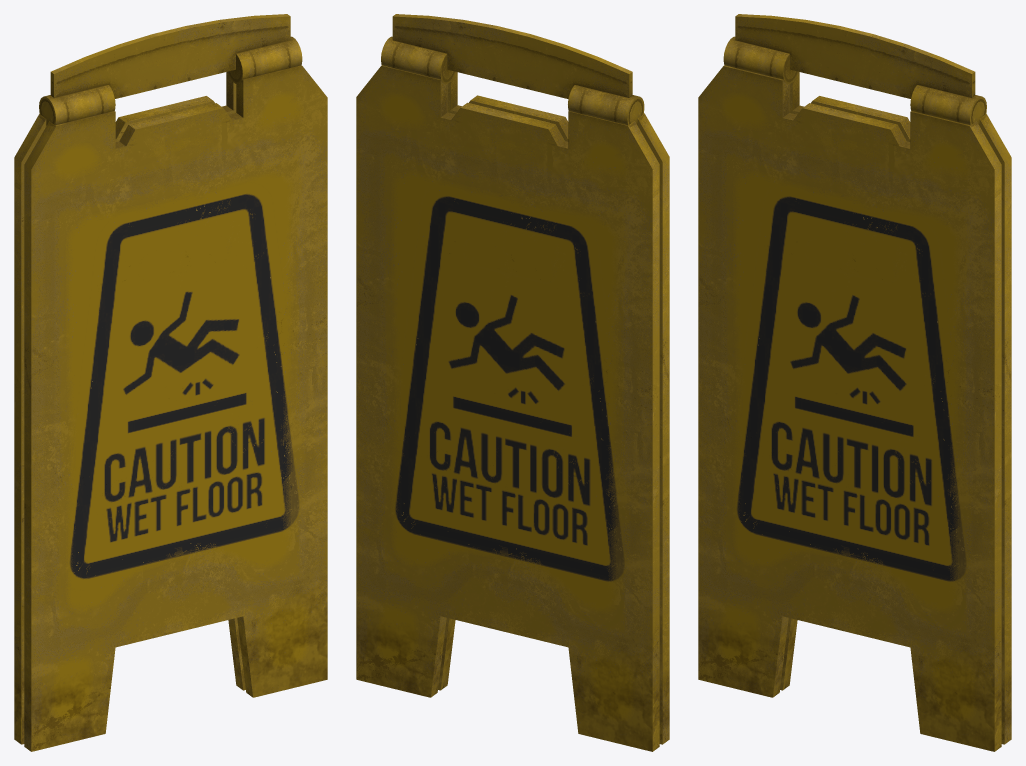
Rendered from SM_WetFloorSign_Closed.fbx.
3 views of the same model, side by side, from view 1: azimuth 30°, elevation 25°; view 2: azimuth 150°, elevation 25°; view 3: azimuth 330°, elevation 25° (orthographic).
Visible parts, largest first — view 1: SM_WetFloorSign_Closed; view 2: SM_WetFloorSign_Closed; view 3: SM_WetFloorSign_Closed.
Part boxes in pixels (x1,y1,x2,y2): SM_WetFloorSign_Closed: [14, 14, 327, 751]; SM_WetFloorSign_Closed: [356, 14, 669, 751]; SM_WetFloorSign_Closed: [698, 14, 1011, 751].
Size of the model in its own units: 45 by 4.56 by 98.49.
1 material, 1 textured.
